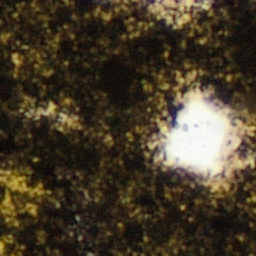cement_matrix: (0, 0, 255, 255), (152, 86, 254, 190), (11, 180, 21, 186), (46, 107, 51, 111), (65, 118, 68, 121)
cracks: (12, 181, 20, 185), (47, 108, 50, 110), (66, 119, 67, 120)
gravel_crushed_stones: (153, 87, 253, 189), (152, 0, 210, 22), (170, 12, 172, 14)
